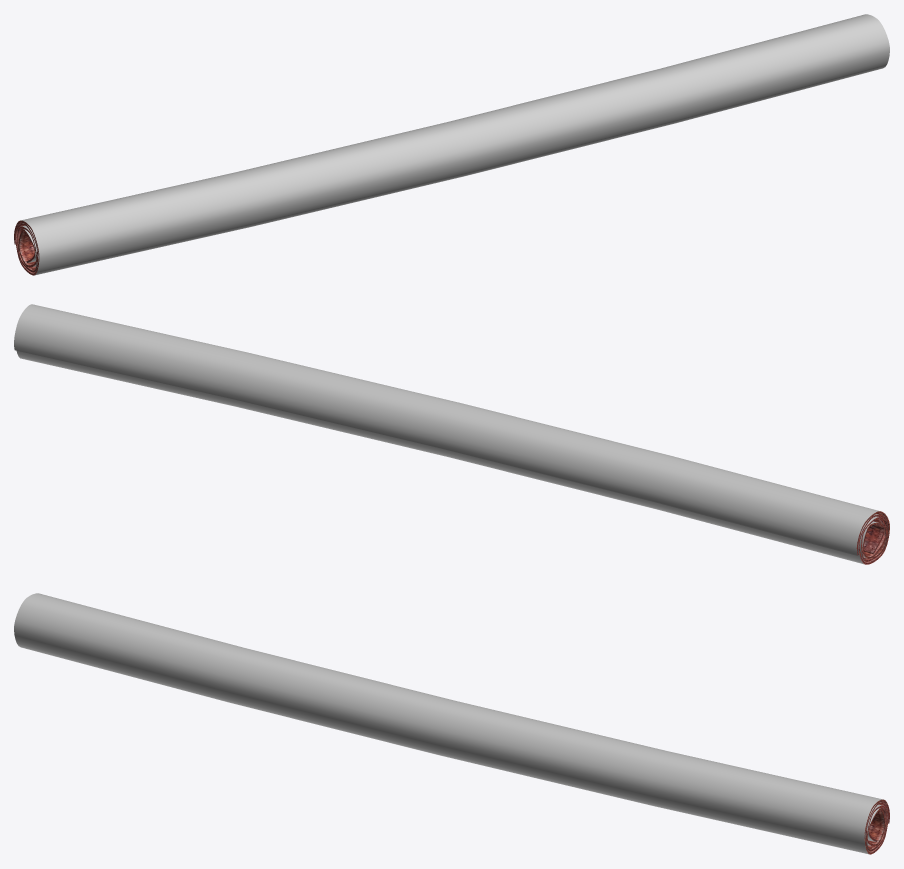
File: SM_Carpet02roll.FBX
3 renders of one model, top to bottom at view 1: azimuth 30°, elevation 25°; view 2: azimuth 150°, elevation 25°; view 3: azimuth 330°, elevation 25°, orthographic.
Parts seen in each view (by area): view 1: SM_Carpet02roll_LOD0; view 2: SM_Carpet02roll_LOD0; view 3: SM_Carpet02roll_LOD0.
Boxes of the visible parts, <box> form: SM_Carpet02roll_LOD0: <box>14,14,889,275</box>; SM_Carpet02roll_LOD0: <box>14,304,889,564</box>; SM_Carpet02roll_LOD0: <box>14,593,889,854</box>.
Size of the model in its own units: 401 by 28.81 by 22.01.
